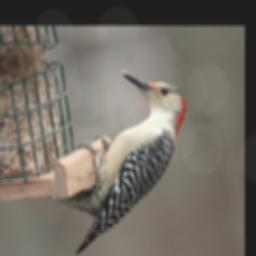Woodpecker: (33, 60, 211, 256)
